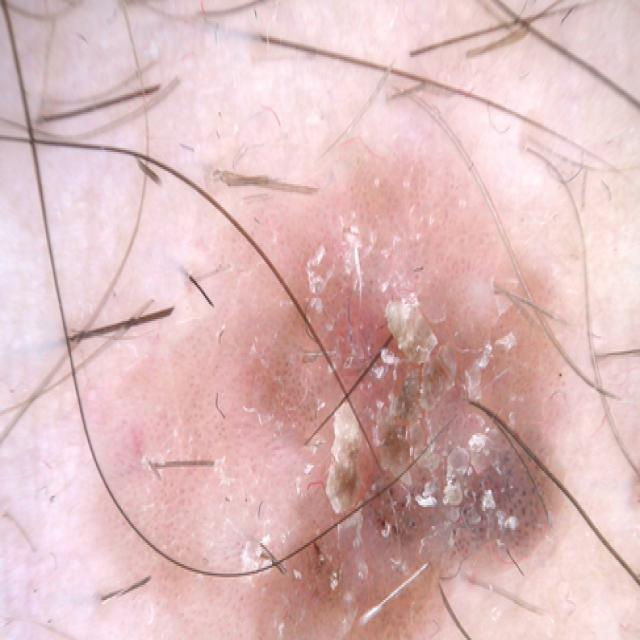Carcinoma: (134, 140, 631, 640)
